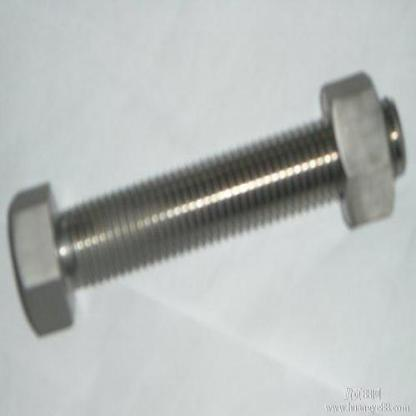FOD: (6, 95, 408, 337), (310, 68, 396, 231)
